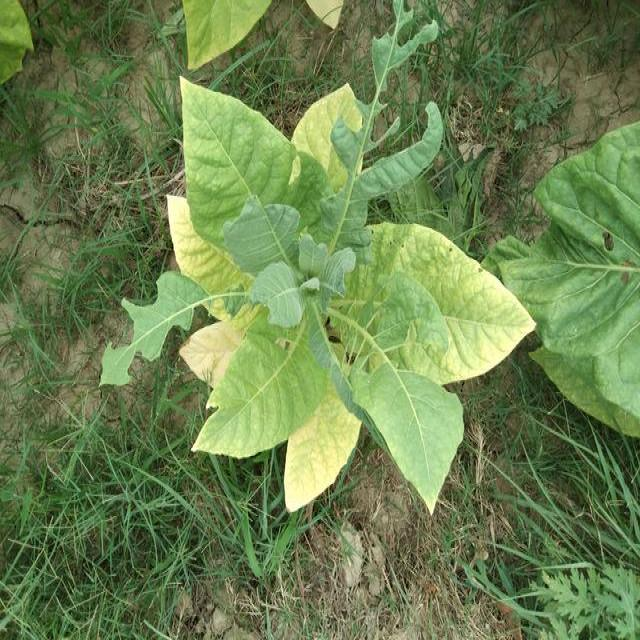crop: (156, 61, 544, 520)
